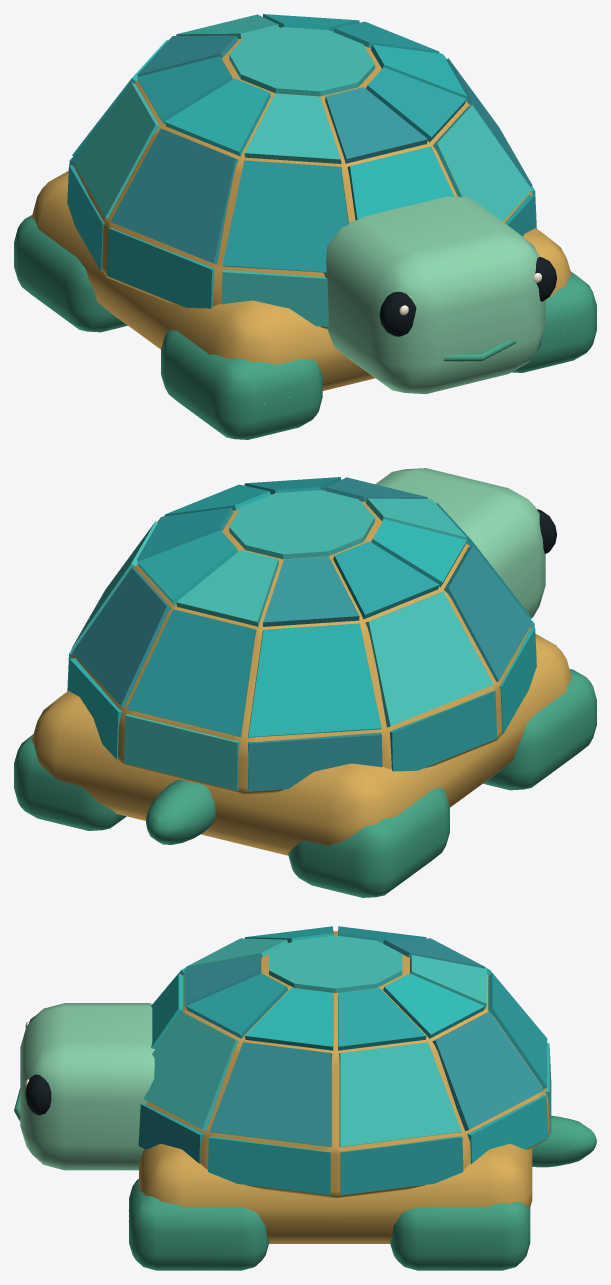
File: tortoise.glb
The picture shows the model from 3 angles, top to bottom: view 1: azimuth 30°, elevation 25°; view 2: azimuth 150°, elevation 25°; view 3: azimuth 270°, elevation 25°; orthographic projection. The views are drawn at different scales.
Parts seen in each view (by area): view 1: Curious head, Broad stable belly, Individual shell scute 16, Paddling jade foot, Individual shell scute 15, Individual shell scute 30, Golden shell foundation, Paddling jade foot.001, Individual shell scute 18, Individual shell scute 14, Individual shell scute 05, Individual shell scute 17 (+18 smaller); view 2: Broad stable belly, Individual shell scute 13, Individual shell scute 12, Individual shell scute 14, Golden shell foundation, Curious head, Paddling jade foot.001, Individual shell scute 30, Individual shell scute 11, Paddling jade foot, Individual shell scute 15, Individual shell scute 02 (+17 smaller); view 3: Curious head, Broad stable belly, Individual shell scute 10, Individual shell scute 19, Paddling jade foot.002, Paddling jade foot.003, Golden shell foundation, Individual shell scute 11, Individual shell scute 18, Individual shell scute 30, Individual shell scute 00, Individual shell scute 09 (+16 smaller).
Part boxes in pixels (<box>): Curious head: <box>324,196,545,394</box>; Broad stable belly: <box>31,171,571,390</box>; Individual shell scute 16: <box>222,160,348,272</box>; Paddling jade foot: <box>161,330,322,439</box>; Individual shell scute 15: <box>110,128,238,264</box>; Individual shell scute 30: <box>229,27,374,96</box>; Golden shell foundation: <box>72,27,532,329</box>; Paddling jade foot.001: <box>14,215,127,332</box>; Individual shell scute 18: <box>432,105,531,221</box>; Individual shell scute 14: <box>71,82,159,218</box>; Individual shell scute 05: <box>107,227,214,308</box>; Individual shell scute 17: <box>347,146,454,220</box>; Broad stable belly: <box>31,633,571,855</box>; Individual shell scute 13: <box>248,623,381,737</box>; Individual shell scute 12: <box>127,609,256,737</box>; Individual shell scute 14: <box>365,591,493,727</box>; Golden shell foundation: <box>71,490,531,794</box>; Curious head: <box>375,468,545,617</box>; Paddling jade foot.001: <box>288,787,449,897</box>; Individual shell scute 30: <box>229,490,374,559</box>; Individual shell scute 11: <box>72,568,171,707</box>; Paddling jade foot: <box>483,669,596,790</box>; Individual shell scute 15: <box>444,545,532,681</box>; Individual shell scute 02: <box>124,714,240,790</box>; Curious head: <box>20,1003,154,1170</box>; Broad stable belly: <box>139,1143,532,1243</box>; Individual shell scute 10: <box>339,1042,461,1146</box>; Individual shell scute 19: <box>209,1042,332,1147</box>; Paddling jade foot.002: <box>129,1179,269,1270</box>; Paddling jade foot.003: <box>390,1201,530,1270</box>; Golden shell foundation: <box>141,931,549,1197</box>; Individual shell scute 11: <box>432,1011,543,1131</box>; Individual shell scute 18: <box>143,1011,238,1131</box>; Individual shell scute 30: <box>269,935,402,992</box>; Individual shell scute 00: <box>340,1136,463,1195</box>; Individual shell scute 09: <box>208,1136,330,1195</box>.
Bounding box in the file's own units: 2.02 × 1.29 × 2.9.
